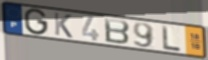4: (81, 15, 101, 43)
9: (132, 22, 157, 49)
B: (103, 17, 132, 46)
G: (24, 8, 49, 36)
K: (52, 11, 74, 40)
L: (161, 24, 183, 53)
